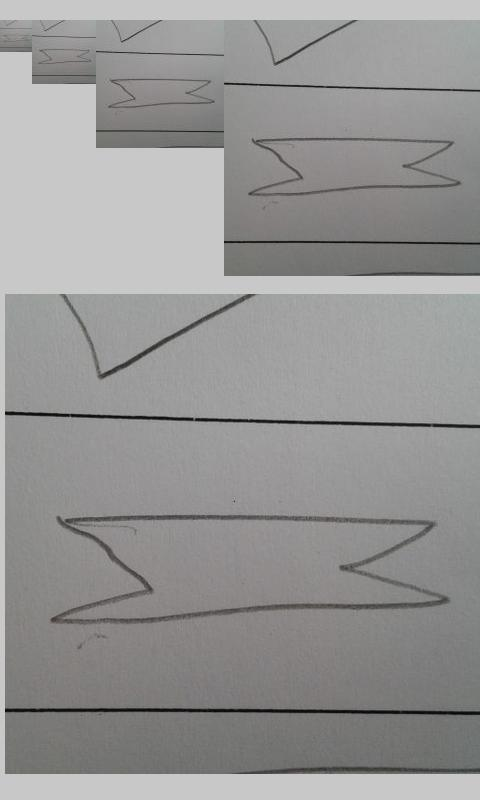edit_text: (52, 511, 451, 628), (249, 137, 461, 197), (106, 78, 215, 109), (38, 48, 91, 65), (3, 34, 29, 43)
